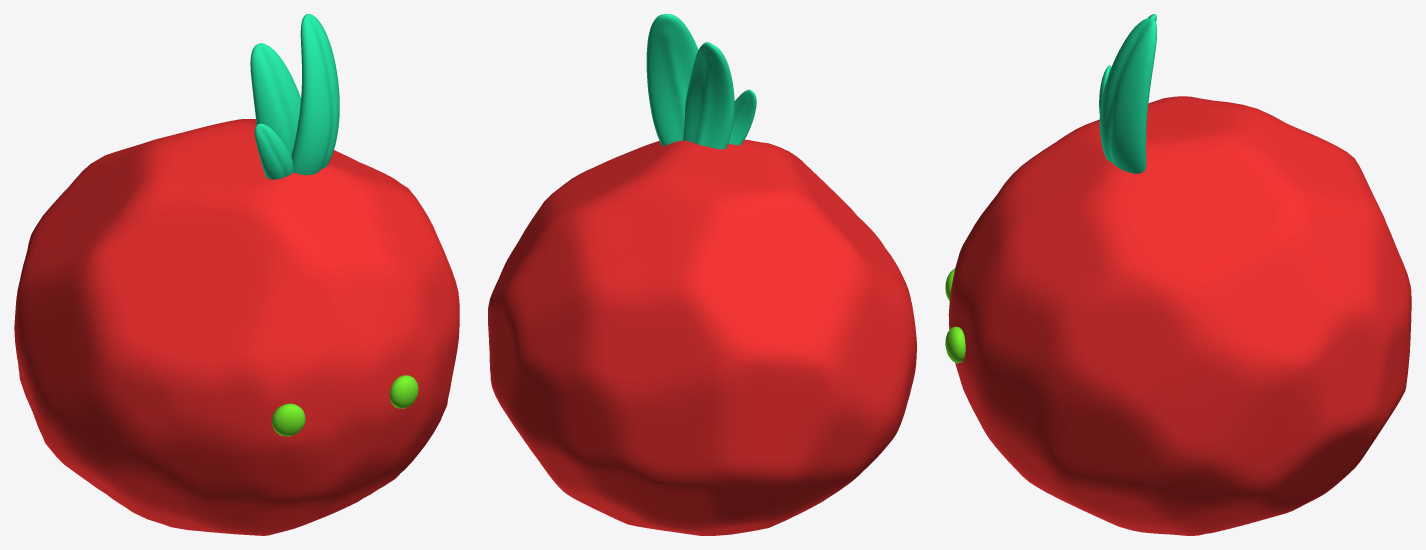
Rendered from Petrock.fbx.
The picture shows the model from 3 angles, left to right: view 1: azimuth 30°, elevation 25°; view 2: azimuth 150°, elevation 25°; view 3: azimuth 270°, elevation 25°; orthographic projection. The views are drawn at different scales.
Visible parts, largest first — view 1: PM3D_Sphere3D2_8; view 2: PM3D_Sphere3D2_8; view 3: PM3D_Sphere3D2_8.
Part boxes in pixels (bbox=[...]): PM3D_Sphere3D2_8: bbox=[14, 14, 459, 535]; PM3D_Sphere3D2_8: bbox=[488, 14, 916, 535]; PM3D_Sphere3D2_8: bbox=[945, 14, 1411, 535].
Size of the model in its own units: 44 by 54.2 by 44.21.
